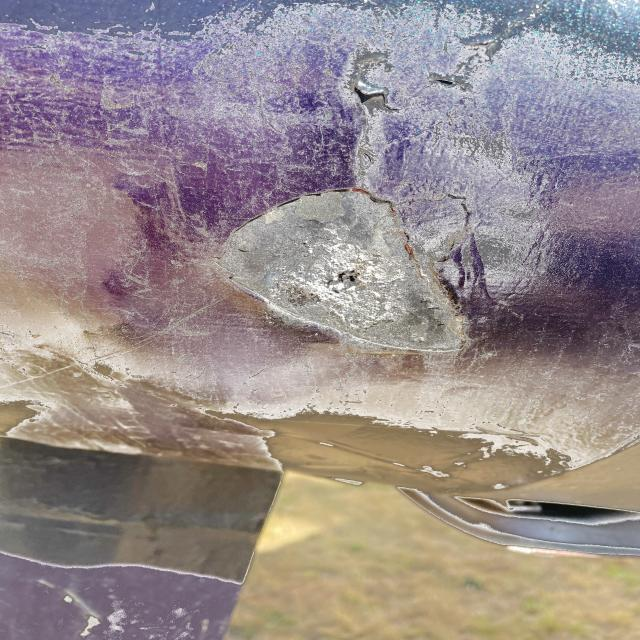crack: (340, 74, 410, 123), (429, 76, 474, 93)
dent: (206, 178, 501, 362)
